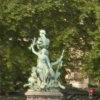Statue: (25, 19, 80, 100)
